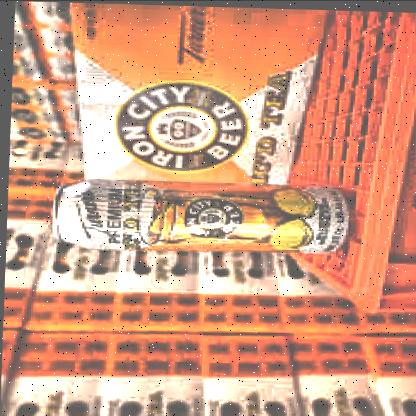Can: (46, 174, 354, 256)
